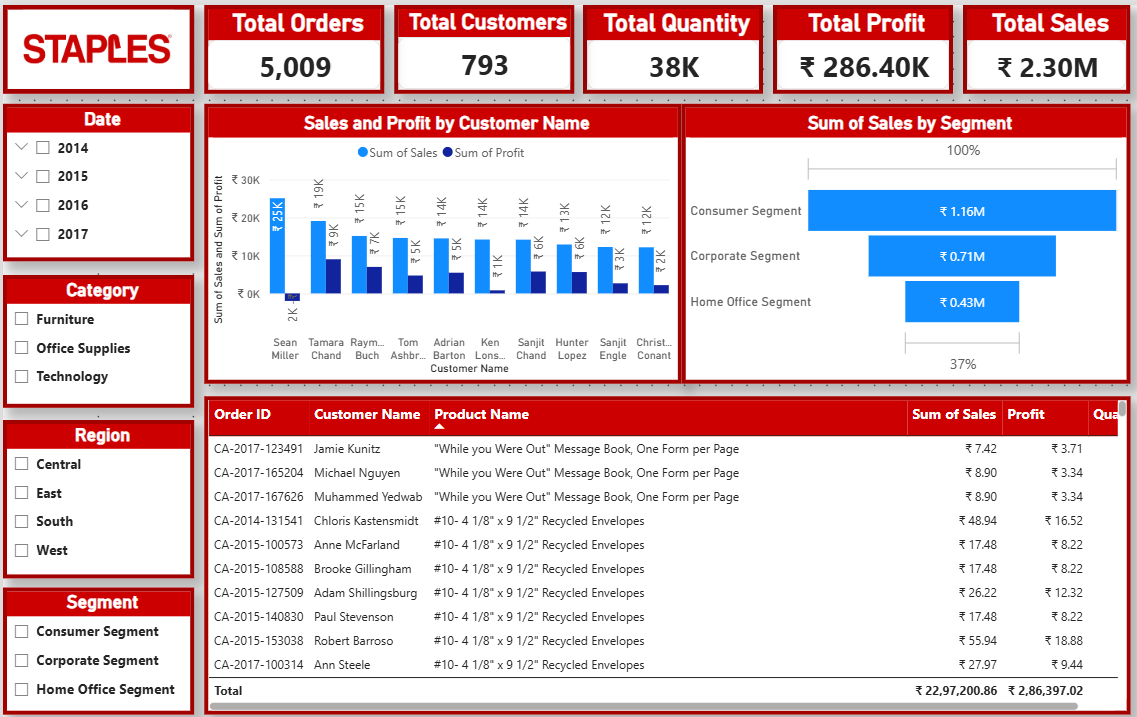

Layout of this report page (visuals, bound fields, positions):
{"tool":"powerbi","page":{"name":"Customer Analysis","canvas":[1920,1080],"ordinal":5},"visuals":[{"type":"image","box":[0,0,191.2,88.8],"z":0},{"type":"cardVisual","title":"Total Sales","fields":{"Data":["Sum(Orders.Sales)"]},"box":[960,0,167.5,88.8],"z":1000},{"type":"cardVisual","title":"Total Profit ","fields":{"Data":["Sum(Orders.Profit)"]},"box":[770.2,0,180,88.8],"z":2000},{"type":"cardVisual","title":"Total Quantity","fields":{"Data":["Sum(Orders.Quantity)"]},"box":[580.5,0,180,88.8],"z":3000},{"type":"cardVisual","title":"Total Customers","fields":{"Data":["Count(Orders.Customer ID)"]},"box":[390.8,0,180,88.8],"z":4000},{"type":"cardVisual","title":"Total Orders","fields":{"Data":["Count(Orders.Order ID)"]},"box":[201,0,180,88.8],"z":5000},{"type":"slicer","title":"Date ","fields":{"Values":["Orders.Order Date.Variation.Date Hierarchy.Year","Orders.Order Date.Variation.Date Hierarchy.Quarter","Orders.Order Date.Variation.Date Hierarchy.Month","Orders.Order Date.Variation.Date Hierarchy.Day"]},"box":[0,98.8,191.2,157.5],"z":6000},{"type":"slicer","title":"Category ","fields":{"Values":["Orders.Category"]},"box":[0,270,191.2,132.5],"z":7000},{"type":"slicer","title":"Region ","fields":{"Values":["Orders.Region"]},"box":[0,414.4,191.2,158.8],"z":8000},{"type":"slicer","title":"Segment ","fields":{"Values":["Orders.Segment"]},"box":[0,582.5,191.2,127.5],"z":9000},{"type":"clusteredColumnChart","title":"Sales and Profit by Customer Name","fields":{"Category":["Orders.Customer Name"],"Y":["Sum(Orders.Sales)","Sum(Orders.Profit)"]},"box":[201.2,98.8,477.5,280],"z":10000},{"type":"funnel","fields":{"Category":["Orders.Segment"],"Y":["Sum(Orders.Sales)"]},"box":[678.8,98.8,448.8,280],"z":11000},{"type":"tableEx","fields":{"Values":["Orders.Order ID","Orders.Customer Name","Orders.Product Name","Sum(Orders.Sales)","Sum(Orders.Profit)","Sum(Orders.Quantity)"]},"box":[201.2,391.2,926.2,318.8],"z":12000}]}

Visuals, with their boxes on the page's 1920x1080 design canvas (x1, y1, x2, y2). These are canvas units, not pixel positions in the 1137x717 screenshot, which may show the page scaled, cropped or inside an application window:
image: <box>0,0,191,89</box>
"Total Sales" cardVisual: <box>960,0,1128,89</box>
"Total Profit " cardVisual: <box>770,0,950,89</box>
"Total Quantity" cardVisual: <box>580,0,760,89</box>
"Total Customers" cardVisual: <box>391,0,571,89</box>
"Total Orders" cardVisual: <box>201,0,381,89</box>
"Date " slicer: <box>0,99,191,256</box>
"Category " slicer: <box>0,270,191,402</box>
"Region " slicer: <box>0,414,191,573</box>
"Segment " slicer: <box>0,582,191,710</box>
"Sales and Profit by Customer Name" clusteredColumnChart: <box>201,99,679,379</box>
funnel - Orders.Segment x Sum(Orders.Sales): <box>679,99,1128,379</box>
tableEx - Orders.Order ID x Orders.Customer Name: <box>201,391,1127,710</box>
